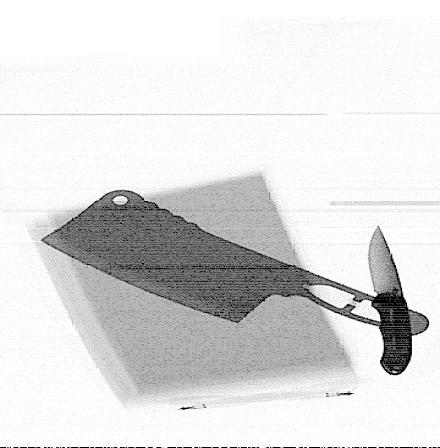Knife: (40, 189, 429, 338), (367, 224, 414, 377)
